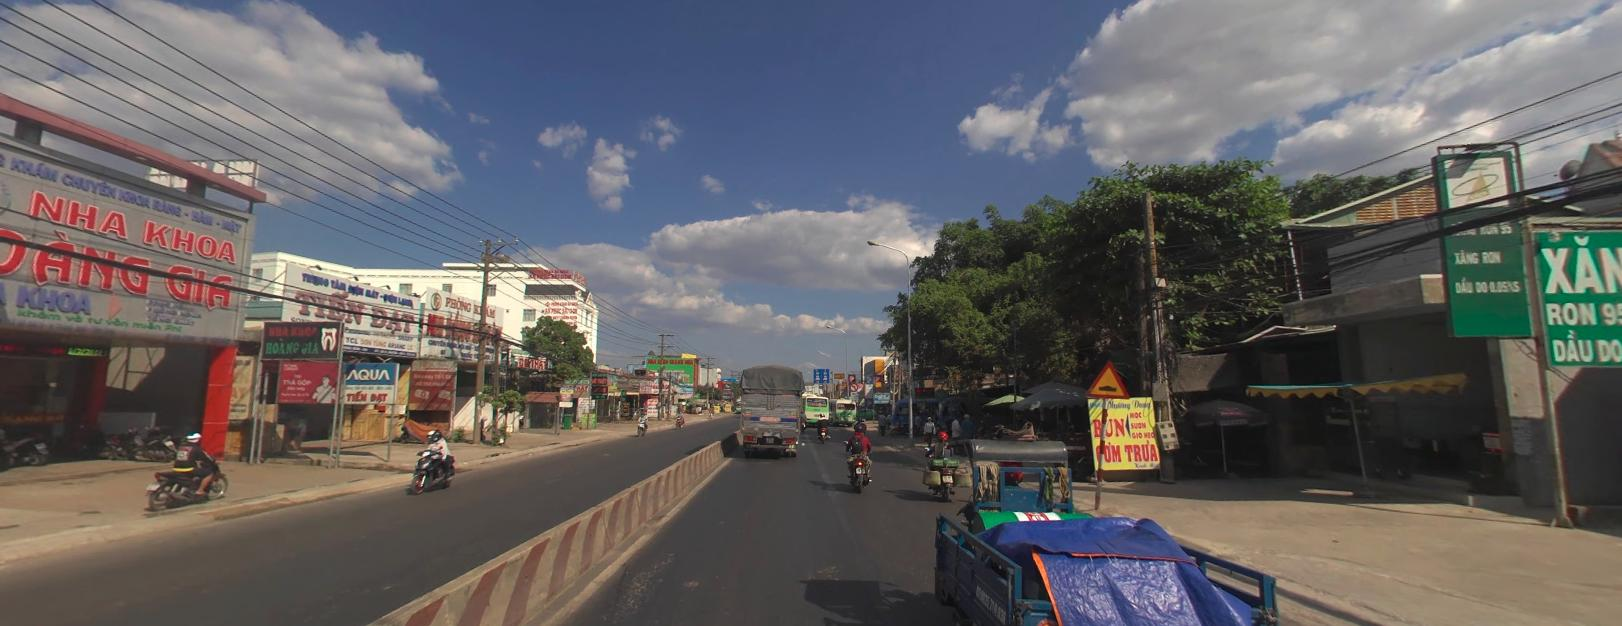Cam re: (849, 381, 857, 390)
Nguy hiem: (1087, 358, 1128, 397)
